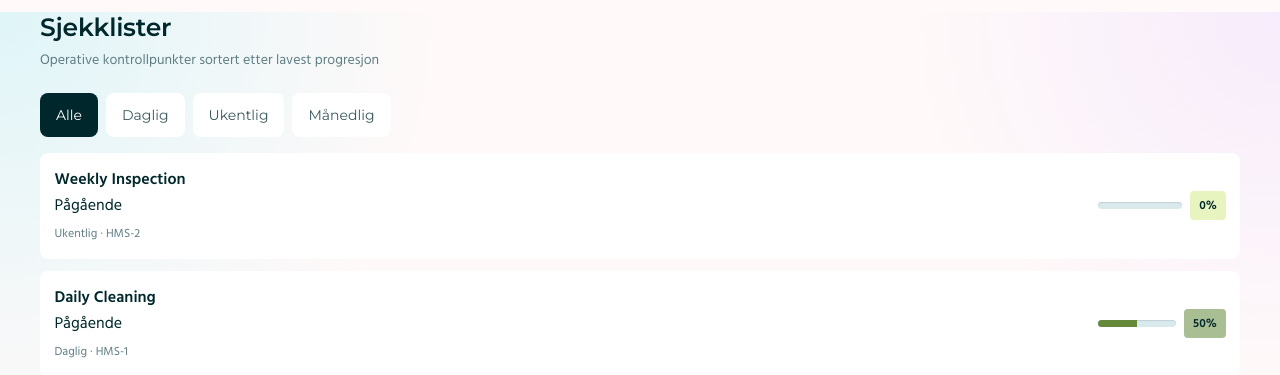
Scenario: ChecklistsView › shows empty state when no checklists match filter
The image size is (1280, 375).
Click the button with class "filter-chip" showing "Månedlig" at point(342, 115), box [292,93,391,137]
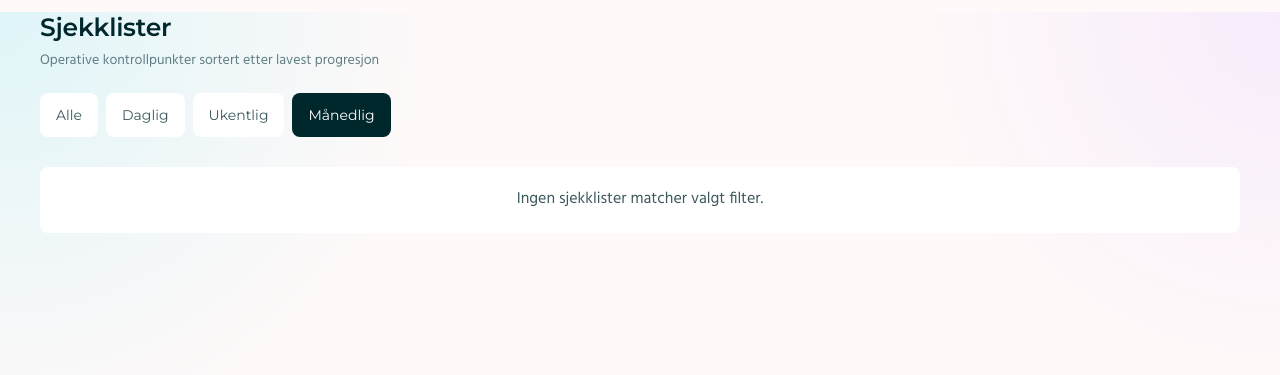
Check: the text "Ingen sjekklister matcher valgt filter." is shown, box [40,167,1240,233]
Check: the text "Ingen sjekklister matcher valgt filter" is shown, box [517,186,763,212]
